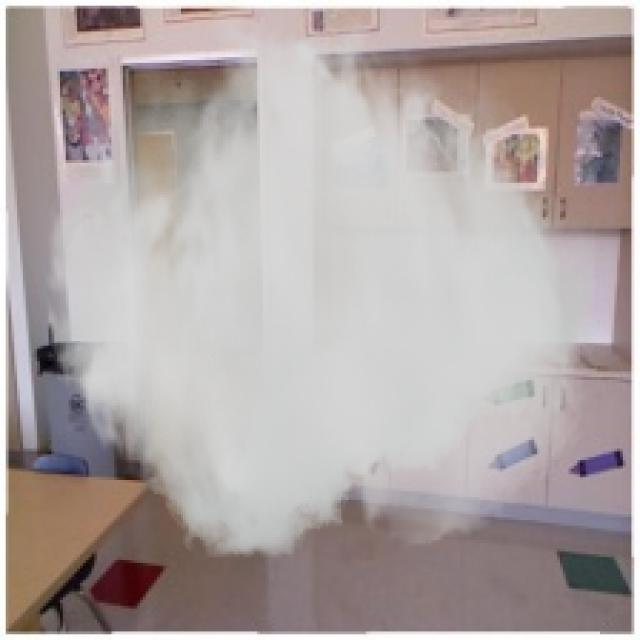Smoke: (39, 0, 594, 557)
